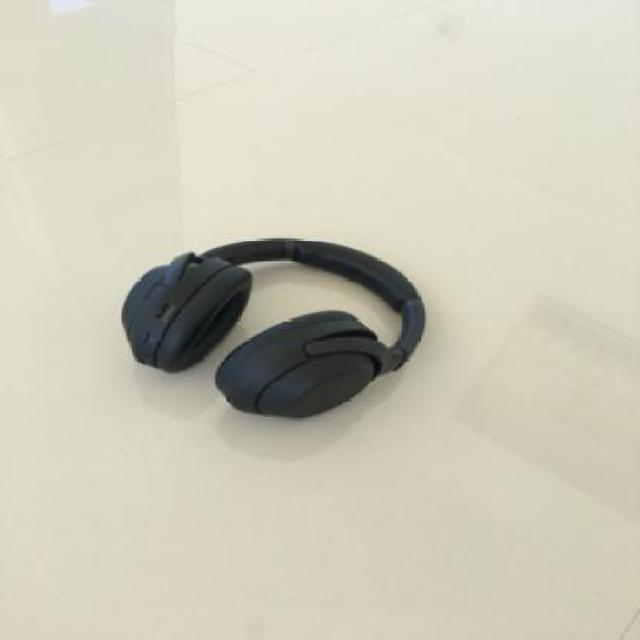earphone: (103, 195, 477, 417)
